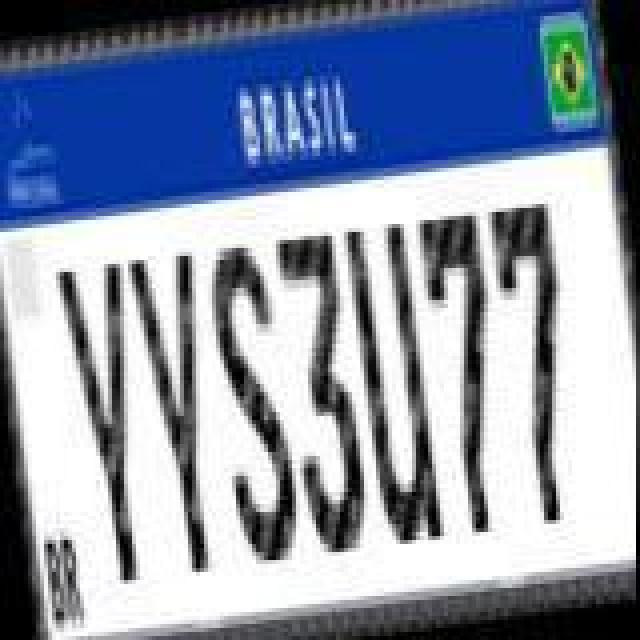3: (270, 224, 382, 560)
7: (414, 204, 526, 540), (482, 194, 594, 526)
S: (198, 232, 310, 568)
U: (346, 218, 450, 550)
Y: (54, 256, 166, 592), (126, 248, 238, 584)
